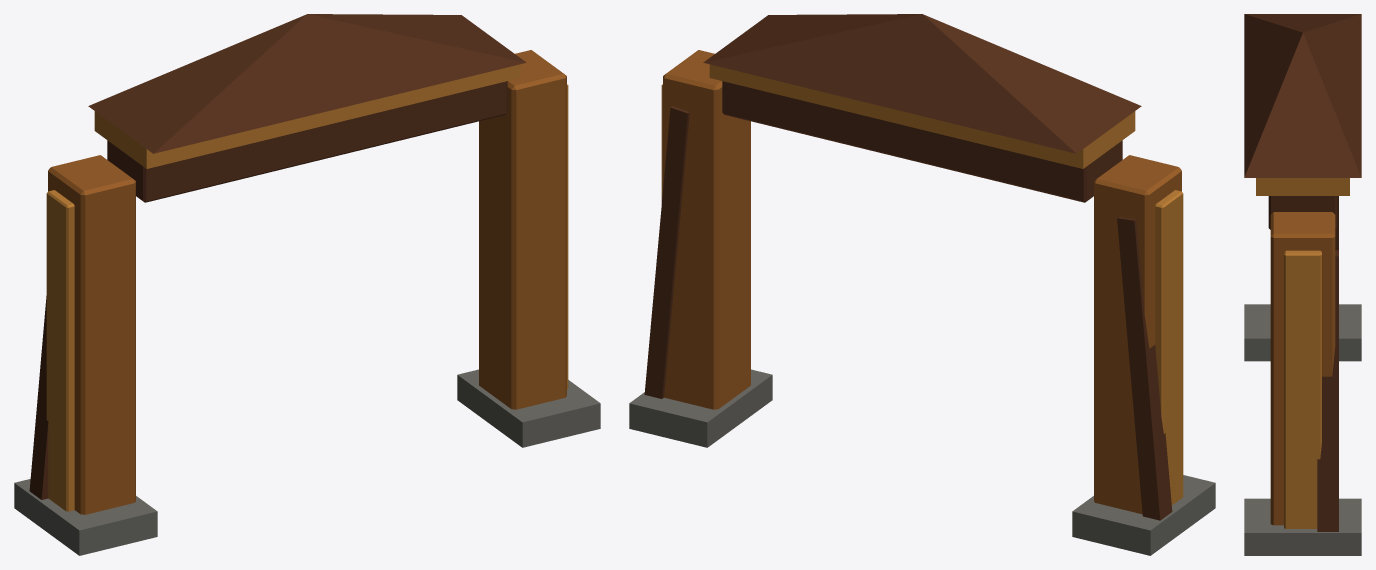
3 views of the same model, side by side, from view 1: azimuth 30°, elevation 25°; view 2: azimuth 150°, elevation 25°; view 3: azimuth 270°, elevation 25° (orthographic). The views are drawn at different scales.
Parts seen in each view (by area): view 1: WK_WoodPalisade_W15_LOD2; view 2: WK_WoodPalisade_W15_LOD2; view 3: WK_WoodPalisade_W15_LOD2.
Boxes of the visible parts, bbox=[...] form: WK_WoodPalisade_W15_LOD2: bbox=[14, 14, 600, 555]; WK_WoodPalisade_W15_LOD2: bbox=[629, 14, 1215, 555]; WK_WoodPalisade_W15_LOD2: bbox=[1244, 14, 1361, 555].
Size of the model in its own units: 6 by 5 by 1.3.
